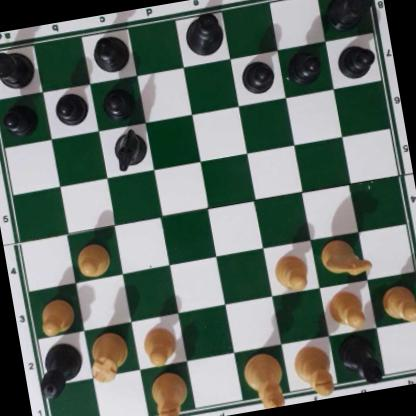black-bishop: (336, 332, 384, 388), (87, 32, 134, 75)
black-king: (179, 9, 227, 58)
black-knight: (108, 126, 152, 173)
black-pawn: (335, 39, 376, 81), (285, 47, 324, 85), (238, 56, 276, 95), (0, 101, 39, 138), (52, 89, 88, 128), (100, 82, 136, 121)
black-queen: (33, 341, 87, 402)
black-rook: (0, 44, 37, 93), (322, 0, 372, 31)
white-bishop: (290, 343, 335, 399), (148, 368, 194, 416)
white-king: (240, 350, 287, 410)
white-knight: (317, 232, 374, 281)
white-pawn: (324, 285, 368, 332), (71, 237, 115, 279), (138, 323, 179, 368), (35, 295, 77, 338), (271, 251, 310, 294), (379, 281, 416, 323)
white-rook: (87, 329, 132, 382)
